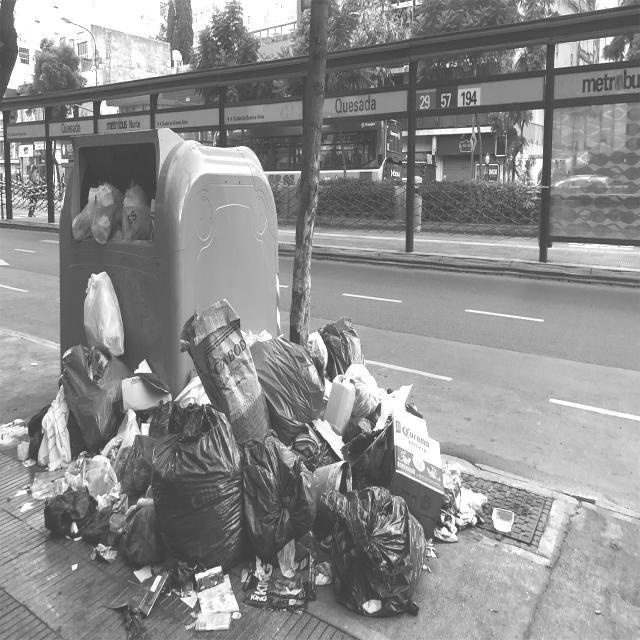high trash: (18, 272, 560, 631)
